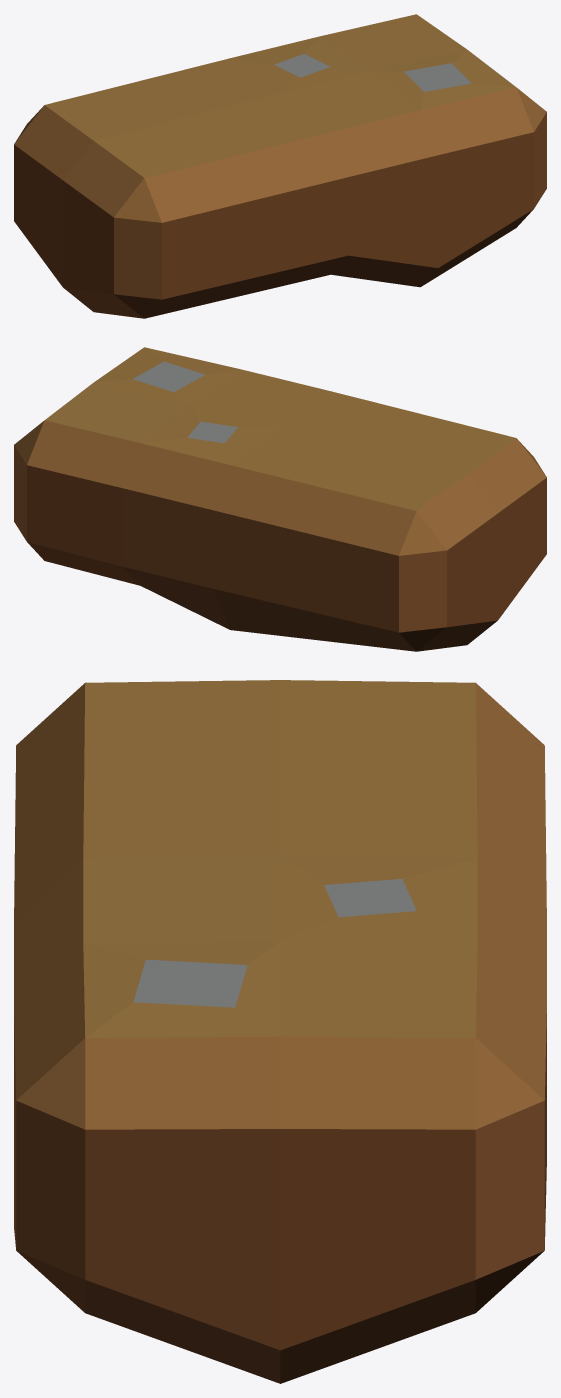
Rendered from m_kub_dirt_floorBrick.FBX.
3 views of the same model, one above another, from view 1: azimuth 30°, elevation 25°; view 2: azimuth 150°, elevation 25°; view 3: azimuth 270°, elevation 25° (orthographic). The views are drawn at different scales.
Parts seen in each view (by area): view 1: m_kub_dirt_floorBrick; view 2: m_kub_dirt_floorBrick; view 3: m_kub_dirt_floorBrick.
Boxes of the visible parts, bbox=[...] form: m_kub_dirt_floorBrick: bbox=[14, 14, 546, 318]; m_kub_dirt_floorBrick: bbox=[14, 347, 546, 651]; m_kub_dirt_floorBrick: bbox=[14, 680, 546, 1383].
Bounding box in the file's own units: 2.18 × 0.8591 × 1.18.
